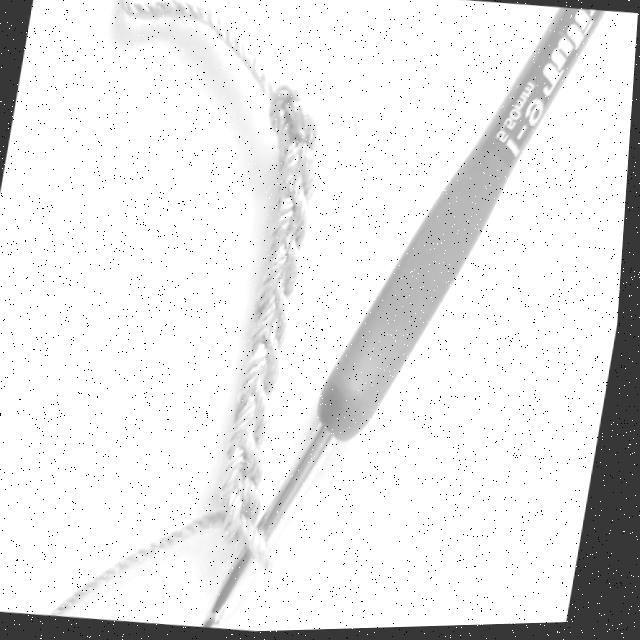ch: (271, 84, 320, 157), (225, 431, 267, 505), (240, 331, 284, 401), (261, 235, 301, 308), (228, 477, 265, 545), (255, 287, 293, 353), (274, 186, 311, 252), (235, 381, 273, 445), (281, 144, 318, 203)
